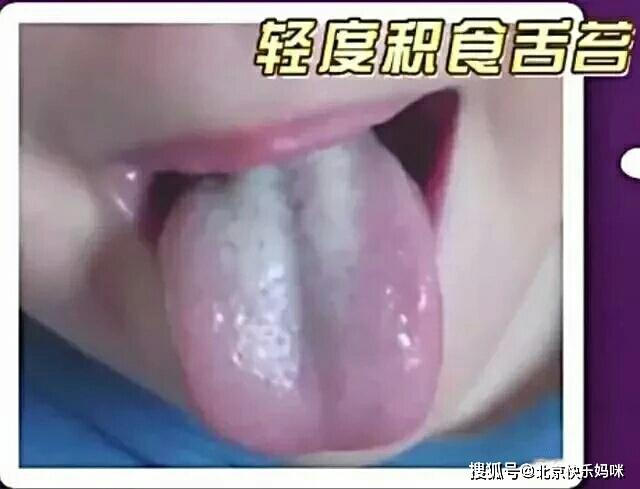baitaishe: (158, 128, 442, 452)
